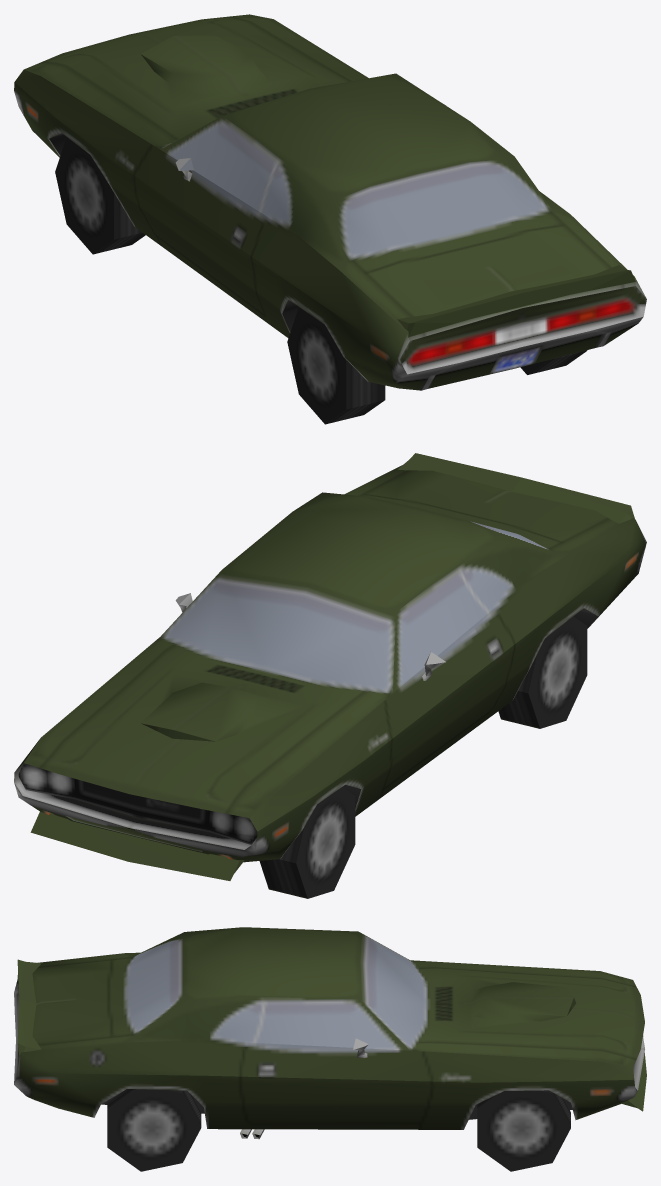
Rendered from fhqDiecast1870ChallengerTARace.fbx.
3 views of the same model, one above another, from view 1: azimuth 30°, elevation 25°; view 2: azimuth 150°, elevation 25°; view 3: azimuth 270°, elevation 25° (orthographic). The views are drawn at different scales.
Parts seen in each view (by area): view 1: fhqchallengerTARace; view 2: fhqchallengerTARace; view 3: fhqchallengerTARace.
Part boxes in pixels (x1,y1,x2,y2): fhqchallengerTARace: (14,14,646,424); fhqchallengerTARace: (14,453,646,898); fhqchallengerTARace: (14,927,646,1171).
Bounding box in the file's own units: 0.2033 × 0.1532 × 0.5228.
